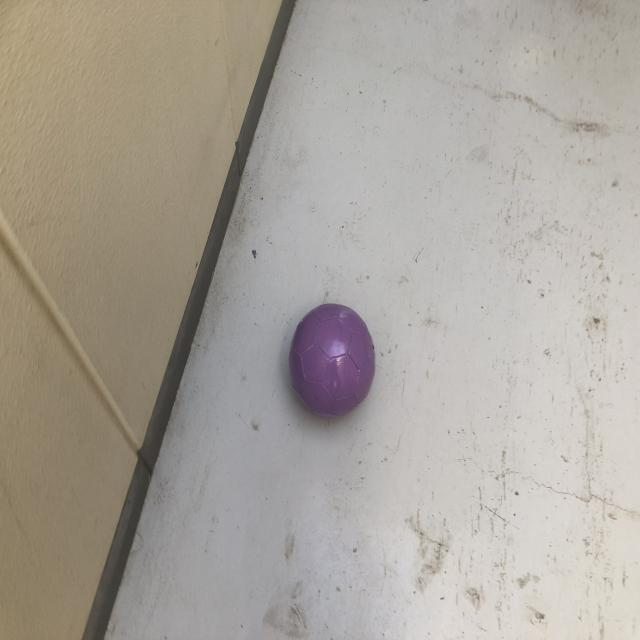purple_ball: (290, 305, 374, 418)
